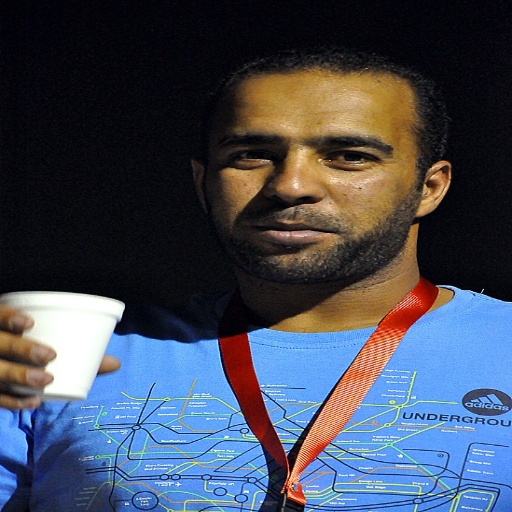hand: (0, 312, 120, 404)
